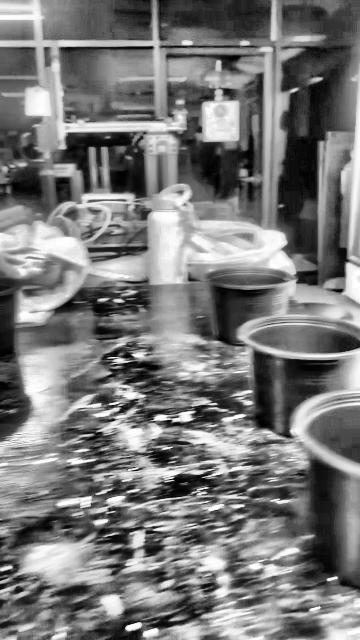pot: (238, 313, 359, 437), (291, 391, 359, 589), (206, 267, 296, 344), (0, 277, 16, 356)
